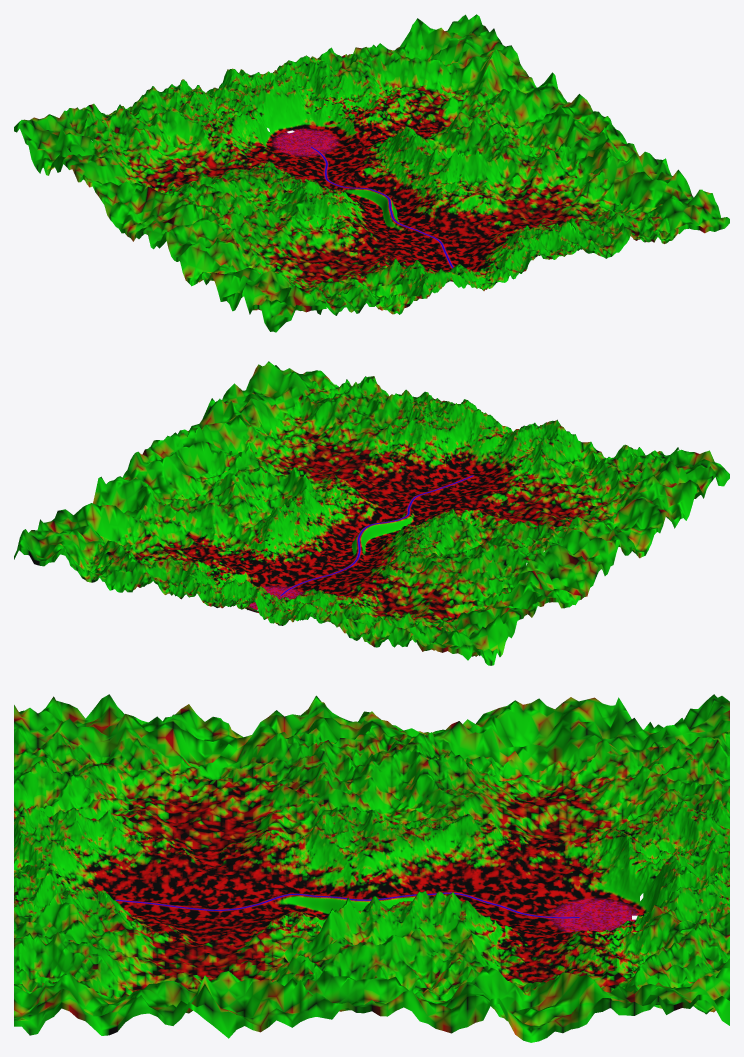
The picture shows the model from 3 angles, top to bottom: view 1: azimuth 30°, elevation 25°; view 2: azimuth 150°, elevation 25°; view 3: azimuth 270°, elevation 25°; orthographic projection. The views are drawn at different scales.
Visible parts, largest first — view 1: terrain_4_0, terrain_5_4, terrain_0_5, terrain_5_1, terrain_6_5, terrain_2_1, terrain_0_3, terrain_5_0, terrain_7_1, terrain_0_0, terrain_7_5, terrain_8_0 (+64 smaller); view 2: terrain_5_7, terrain_4_8, terrain_1_3, terrain_7_2, terrain_5_3, terrain_0_4, terrain_7_7, terrain_6_3, terrain_6_7, terrain_2_2, terrain_3_8, terrain_8_4 (+65 smaller); view 3: terrain_3_3, terrain_0_2, terrain_3_4, terrain_3_7, terrain_3_5, terrain_1_7, terrain_1_1, terrain_1_5, terrain_4_1, terrain_8_2, terrain_3_8, terrain_1_4 (+67 smaller).
Part boxes in pixels (x1,y1,x2,y2): terrain_4_0: [218, 68, 294, 124]; terrain_5_4: [383, 143, 461, 207]; terrain_0_5: [159, 218, 238, 282]; terrain_5_1: [295, 79, 374, 146]; terrain_6_5: [462, 151, 541, 205]; terrain_2_1: [144, 120, 223, 174]; terrain_0_3: [101, 181, 180, 237]; terrain_5_0: [272, 55, 345, 117]; terrain_7_1: [396, 58, 474, 109]; terrain_0_0: [14, 111, 93, 173]; terrain_7_5: [514, 142, 589, 196]; terrain_8_0: [417, 14, 496, 65]; terrain_5_7: [369, 418, 448, 481]; terrain_4_8: [449, 405, 518, 469]; terrain_1_3: [454, 542, 533, 597]; terrain_7_2: [123, 491, 201, 553]; terrain_5_3: [253, 498, 331, 565]; terrain_0_4: [534, 541, 613, 596]; terrain_7_7: [268, 398, 346, 447]; terrain_6_3: [202, 483, 270, 546]; terrain_6_7: [319, 404, 397, 461]; terrain_2_2: [375, 571, 453, 617]; terrain_3_8: [499, 419, 575, 468]; terrain_8_4: [132, 440, 209, 494]; terrain_3_3: [411, 813, 491, 884]; terrain_0_2: [491, 697, 570, 775]; terrain_3_4: [332, 806, 411, 882]; terrain_3_7: [93, 810, 172, 885]; terrain_3_5: [252, 813, 332, 887]; terrain_1_7: [93, 738, 172, 808]; terrain_1_1: [571, 740, 650, 808]; terrain_1_5: [252, 729, 332, 804]; terrain_4_1: [571, 853, 650, 924]; terrain_8_2: [491, 968, 570, 1042]; terrain_3_8: [14, 805, 93, 880]; terrain_1_4: [332, 729, 411, 792].
Size of the model in its own units: 1800 by 195 by 1800.
